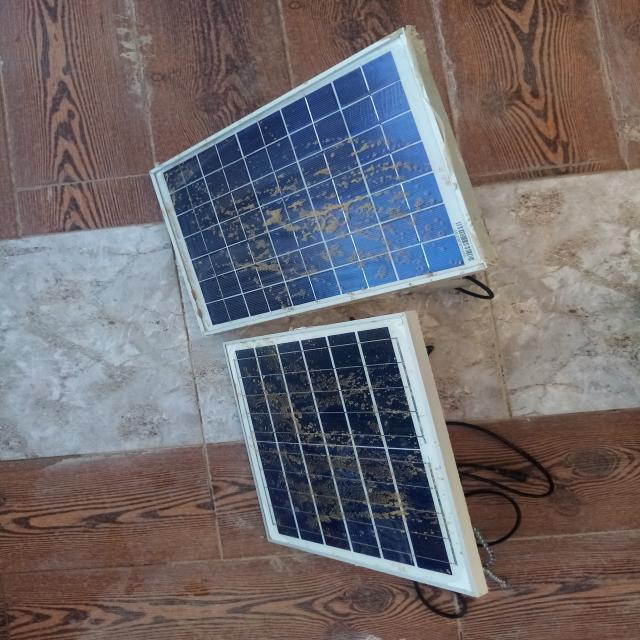faulty: (149, 31, 485, 335), (224, 312, 475, 596)
